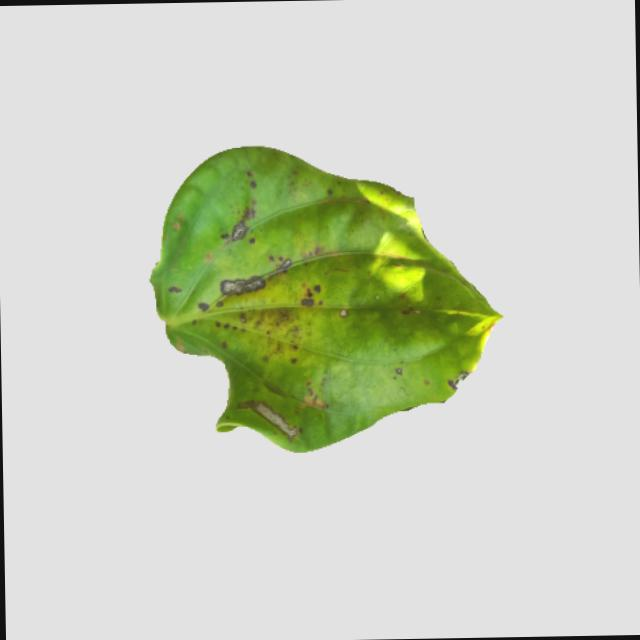yellow-mottle-virus: (139, 142, 504, 454)
